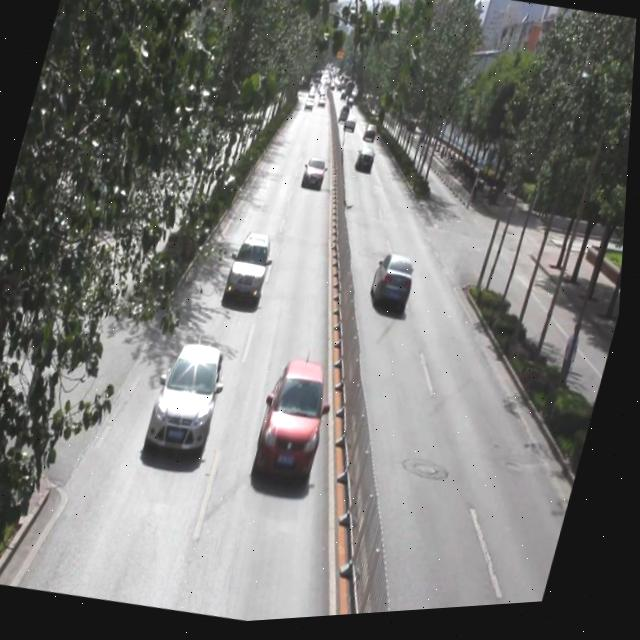car: (254, 358, 344, 492), (148, 337, 235, 461), (224, 231, 279, 312), (368, 254, 423, 321), (301, 159, 331, 198), (355, 150, 379, 179), (363, 125, 380, 147), (344, 116, 360, 137), (304, 101, 317, 116)
truck: (339, 107, 353, 127)
